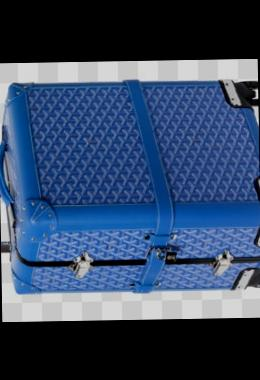GOYARD: (25, 84, 260, 291)
